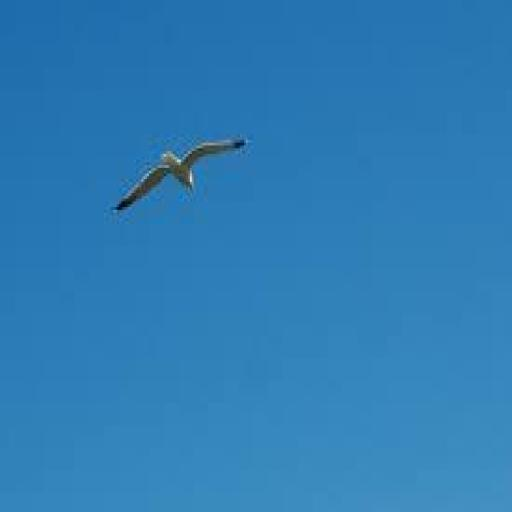birds: (111, 130, 251, 222)
